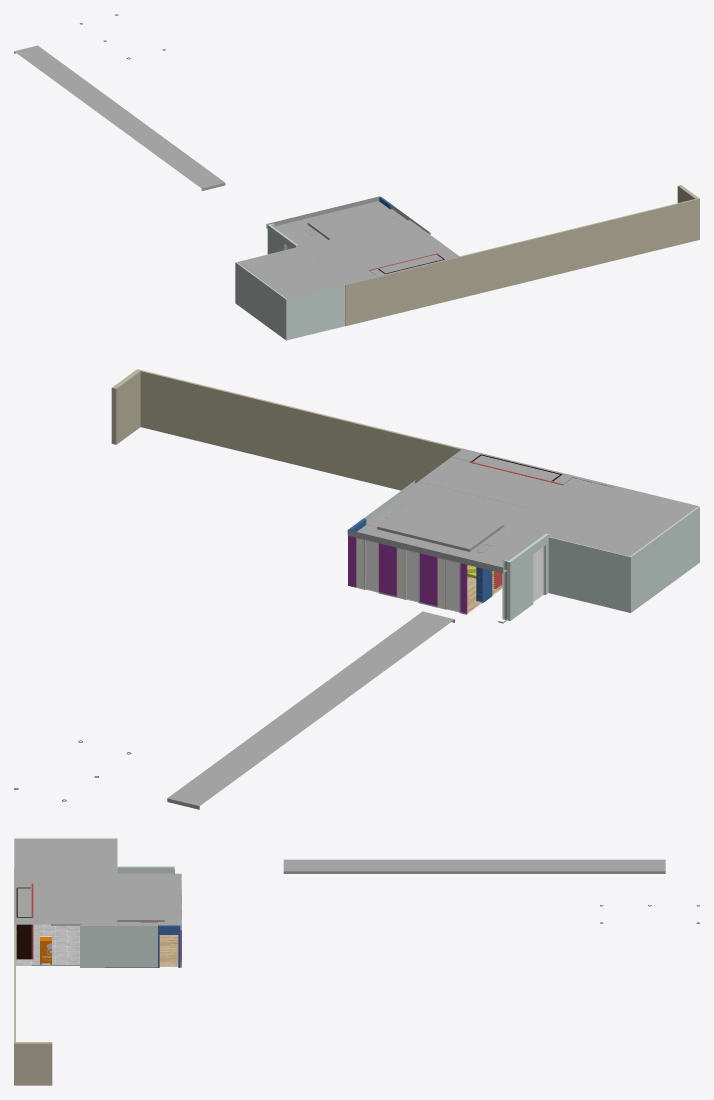
File: cafeteria.fbx
3 views of the same model, one above another, from view 1: azimuth 30°, elevation 25°; view 2: azimuth 150°, elevation 25°; view 3: azimuth 270°, elevation 25° (orthographic). The views are drawn at different scales.
Visible parts, largest first — view 1: wall_part_51, front_ceiling_1, wall_part_50, sofa_legs2, front_ceiling_10, wall_part_54; view 2: wall_part_51, front_ceiling_1, wall_part_50, sofa_legs2, front_ceiling_10, cafeteria, wall_part_54, door_03, door_01; view 3: front_ceiling_1, sofa_legs2, cafeteria, front_ceiling_10, wall_part_51, cafeteria_floor1, cafeteria_bwall, cafeteria_floor2, wall_part_54.
Part boxes in pixels (<box>): wall_part_51: <box>345,185,699,326</box>; front_ceiling_1: <box>237,220,459,299</box>; wall_part_50: <box>235,247,344,340</box>; sofa_legs2: <box>14,45,225,190</box>; front_ceiling_10: <box>266,196,429,246</box>; wall_part_54: <box>267,223,297,254</box>; wall_part_51: <box>111,369,462,490</box>; front_ceiling_1: <box>394,448,698,556</box>; wall_part_50: <box>548,506,699,612</box>; sofa_legs2: <box>167,611,454,809</box>; front_ceiling_10: <box>347,480,542,573</box>; cafeteria: <box>348,457,613,623</box>; wall_part_54: <box>502,533,548,620</box>; door_03: <box>365,541,378,592</box>; door_01: <box>446,560,459,612</box>; front_ceiling_1: <box>14,838,117,924</box>; sofa_legs2: <box>283,859,665,873</box>; cafeteria: <box>16,883,181,967</box>; front_ceiling_10: <box>81,873,181,930</box>; wall_part_51: <box>14,868,52,1085</box>; cafeteria_floor1: <box>16,924,79,965</box>; cafeteria_bwall: <box>16,887,31,959</box>; cafeteria_floor2: <box>159,935,180,966</box>; wall_part_54: <box>117,866,174,875</box>.
Bounding box in the file's own units: 3053 × 308 × 4309.
Materials: 24 (6 with a texture image).
